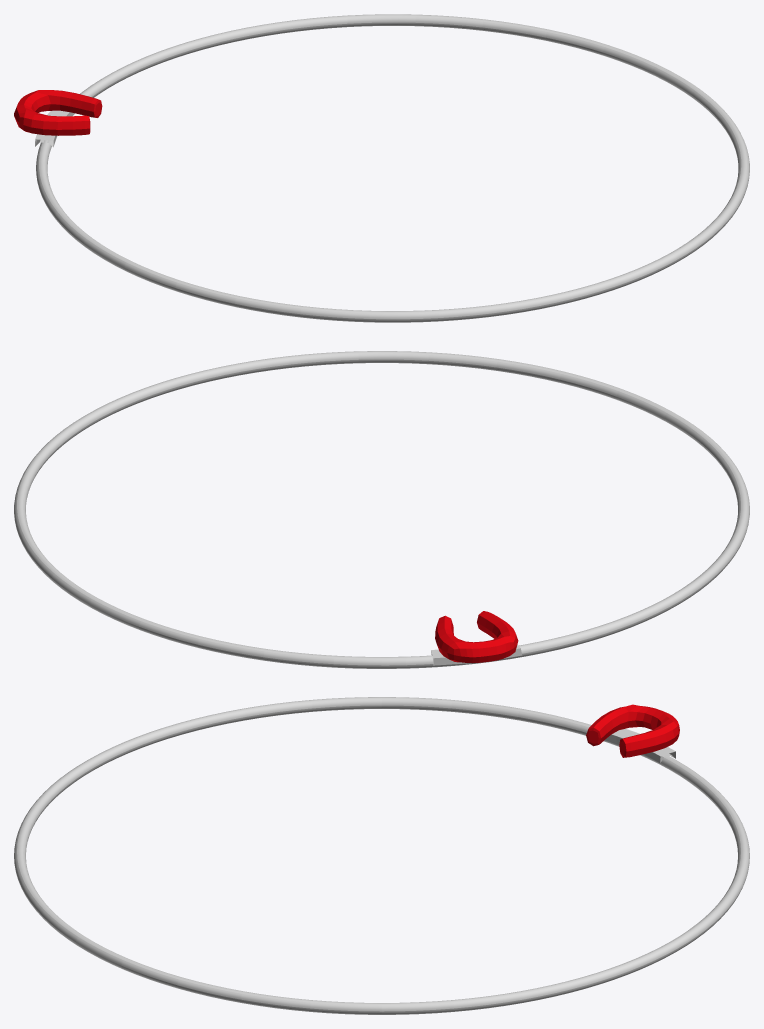
File: MagnetAndRay2.fbx
3 renders of one model, top to bottom at view 1: azimuth 30°, elevation 25°; view 2: azimuth 150°, elevation 25°; view 3: azimuth 270°, elevation 25°, orthographic. The views are drawn at different scales.
Parts seen in each view (by area): view 1: Torus, Cube; view 2: Torus, Cube; view 3: Torus, Cube.
Boxes of the visible parts, x1,y1,x2,y2 form: Torus: (36,14,749,322); Cube: (14,90,102,135); Torus: (14,351,749,668); Cube: (435,611,518,663); Torus: (14,697,749,1014); Cube: (586,704,679,757).
Size of the model in its own units: 204 by 10.2 by 204.
